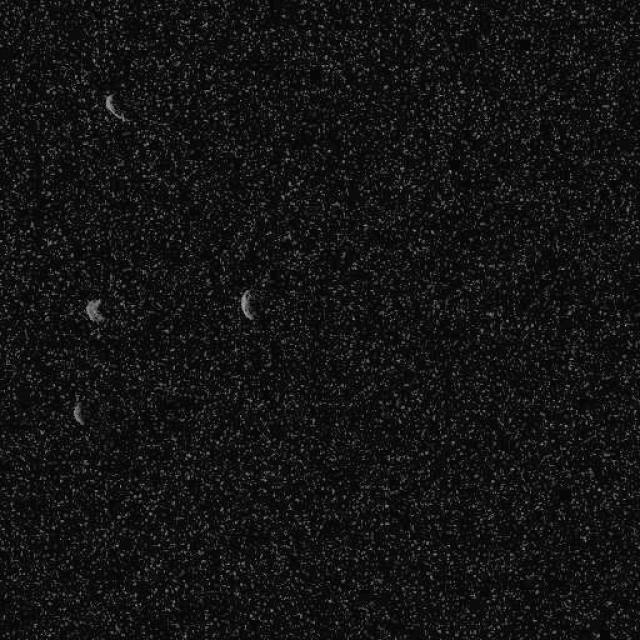D2: (102, 91, 128, 124), (239, 288, 256, 322), (83, 296, 105, 322), (71, 401, 85, 425)
